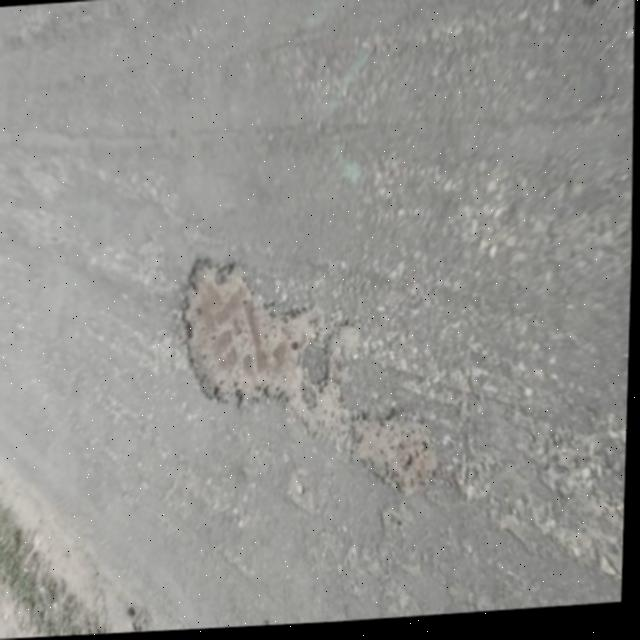Pothole: (172, 251, 318, 419), (349, 410, 443, 508)
